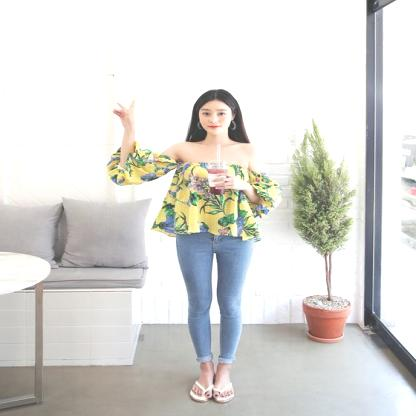dress: (171, 220, 248, 376)
jacket: (109, 136, 283, 245)
jean: (99, 86, 275, 411)
